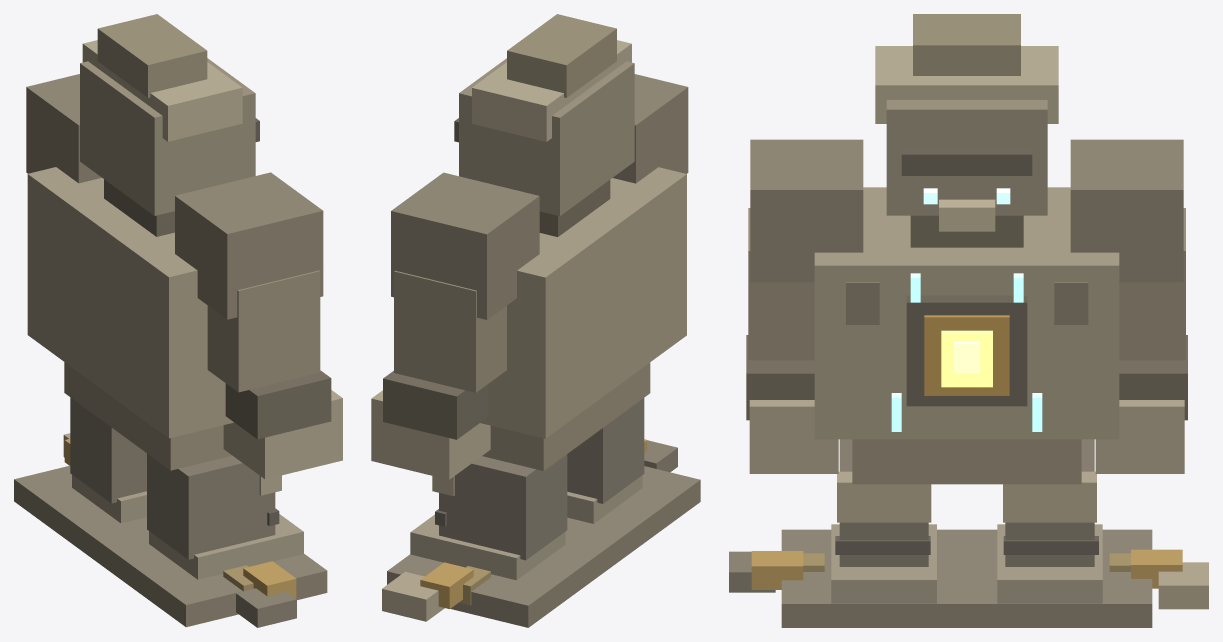
The model's file is boss-gate.glb.
3 renders of one model, left to right at view 1: azimuth 30°, elevation 25°; view 2: azimuth 150°, elevation 25°; view 3: azimuth 270°, elevation 25°, orthographic. The views are drawn at different scales.
Visible parts, largest first — view 1: Torso, Shoulder_Armor, Leg_Armor, Head, Statue_Plinth, Stone_Arms, Helmet_Crest, Helmet, Waist_Armor, Feet, Elbow_Armor, Stone_Fists (+3 smaller); view 2: Torso, Shoulder_Armor, Leg_Armor, Head, Statue_Plinth, Stone_Arms, Helmet_Crest, Helmet, Waist_Armor, Feet, Elbow_Armor, Stone_Fists (+3 smaller); view 3: Torso, Shoulder_Armor, Statue_Plinth, Head, Stone_Fists, Stone_Arms, Core_Frame, Waist_Armor, Feet, Knee_Plates, Helmet, Helmet_Crest (+11 smaller).
Part boxes in pixels (x1,y1,x2,y2): Torso: (27,167,233,438); Shoulder_Armor: (26,74,323,319); Leg_Armor: (70,397,275,559); Head: (80,58,255,215); Statue_Plinth: (14,465,327,627); Stone_Arms: (207,270,320,392); Helmet_Crest: (97,14,207,97); Helmet: (82,40,242,141); Waist_Armor: (64,362,231,470); Feet: (72,475,303,579); Elbow_Armor: (225,370,331,439); Stone_Fists: (223,390,342,479); Torso: (480,167,686,438); Shoulder_Armor: (391,74,688,319); Leg_Armor: (439,398,644,560); Head: (459,58,634,216); Statue_Plinth: (387,466,700,627); Stone_Arms: (394,270,506,392); Helmet_Crest: (507,14,616,97); Helmet: (472,40,631,141); Waist_Armor: (482,362,650,470); Feet: (410,475,642,580); Elbow_Armor: (383,371,488,439); Stone_Fists: (371,390,490,479); Torso: (814,187,1119,439); Shoulder_Armor: (750,139,1183,282); Statue_Plinth: (781,529,1152,627); Head: (886,100,1047,215); Stone_Fists: (749,400,1184,473); Stone_Arms: (748,208,1185,360); Core_Frame: (906,295,1027,406); Waist_Armor: (852,439,1081,484); Feet: (831,524,1102,603); Knee_Plates: (837,471,1096,522); Helmet: (875,46,1058,123); Helmet_Crest: (913,14,1020,75).
Size of the model in its own units: 3.51 by 9.69 by 7.64.
